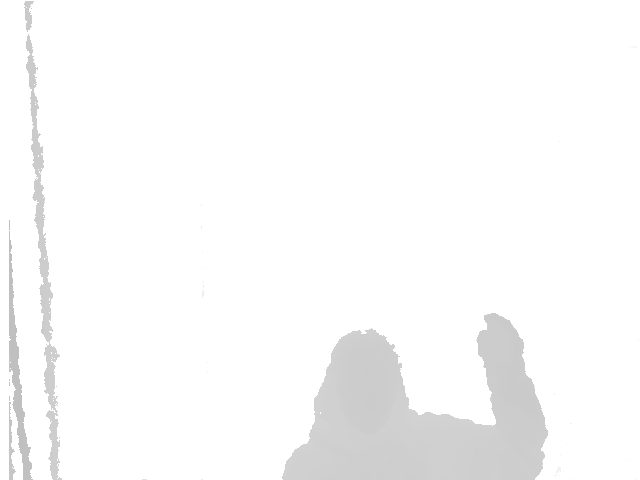hand: (474, 309, 528, 378)
head: (312, 327, 413, 436)
person: (283, 310, 551, 480)
